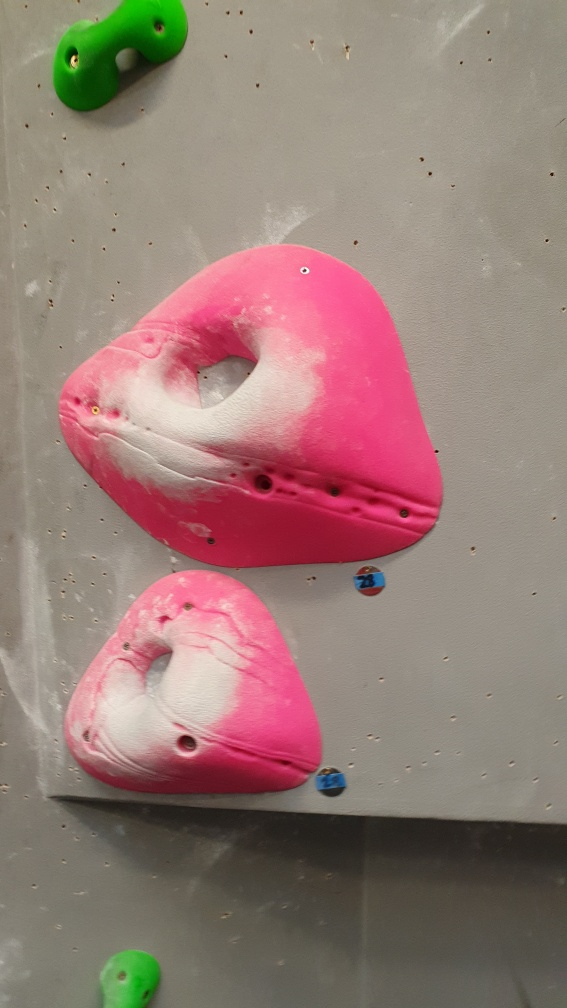Hand Start: (350, 562, 391, 605), (312, 762, 355, 801)
Pocket: (56, 241, 450, 573), (61, 569, 328, 807)
